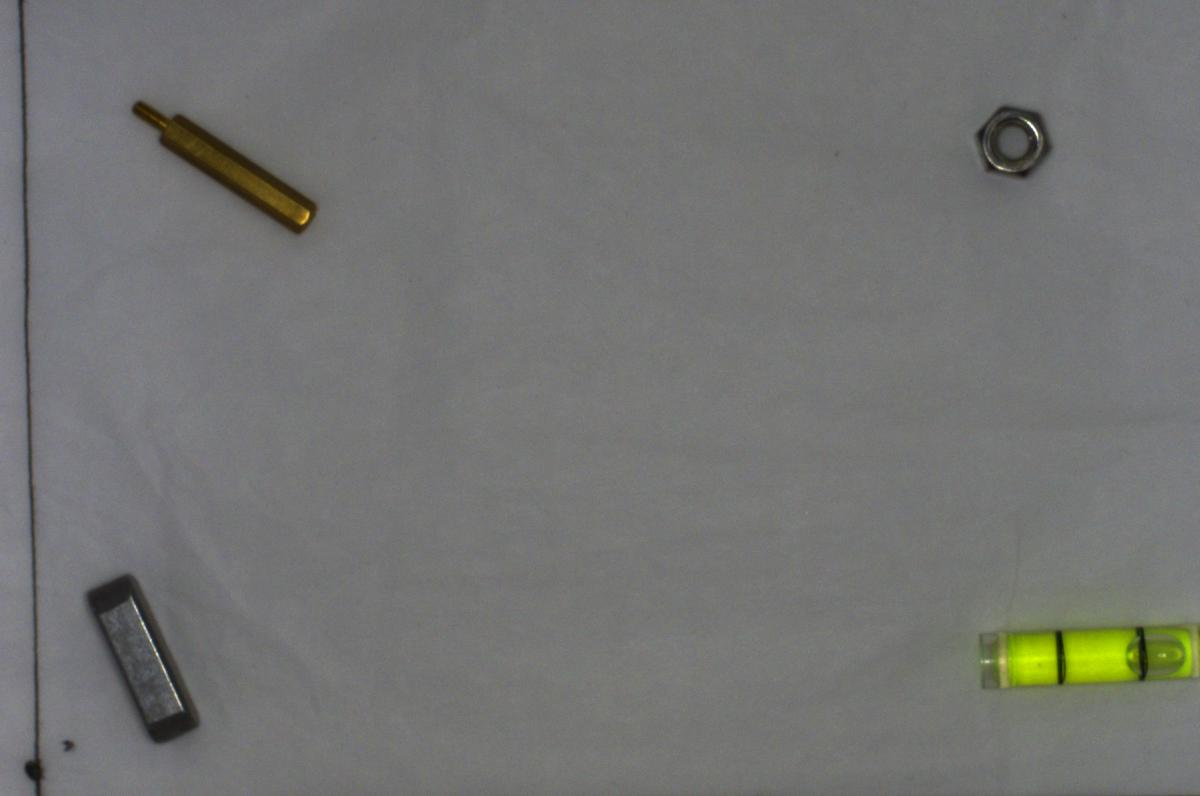Hexagon nut: (964, 99, 1060, 189)
Hexagon pillar: (121, 89, 324, 235)
Horizontal bubble: (967, 609, 1199, 697)
Keybar: (79, 563, 213, 748)
